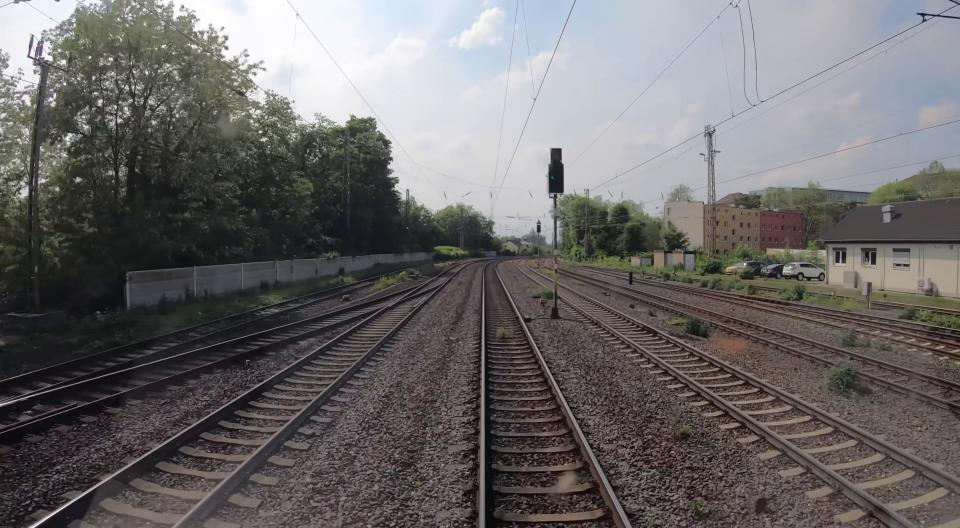Plant: (780, 285, 862, 310), (826, 359, 872, 399), (370, 266, 434, 293), (900, 309, 960, 329), (840, 330, 893, 351), (699, 278, 757, 294), (671, 316, 712, 338), (658, 273, 695, 284), (496, 326, 514, 339), (534, 288, 553, 298)
